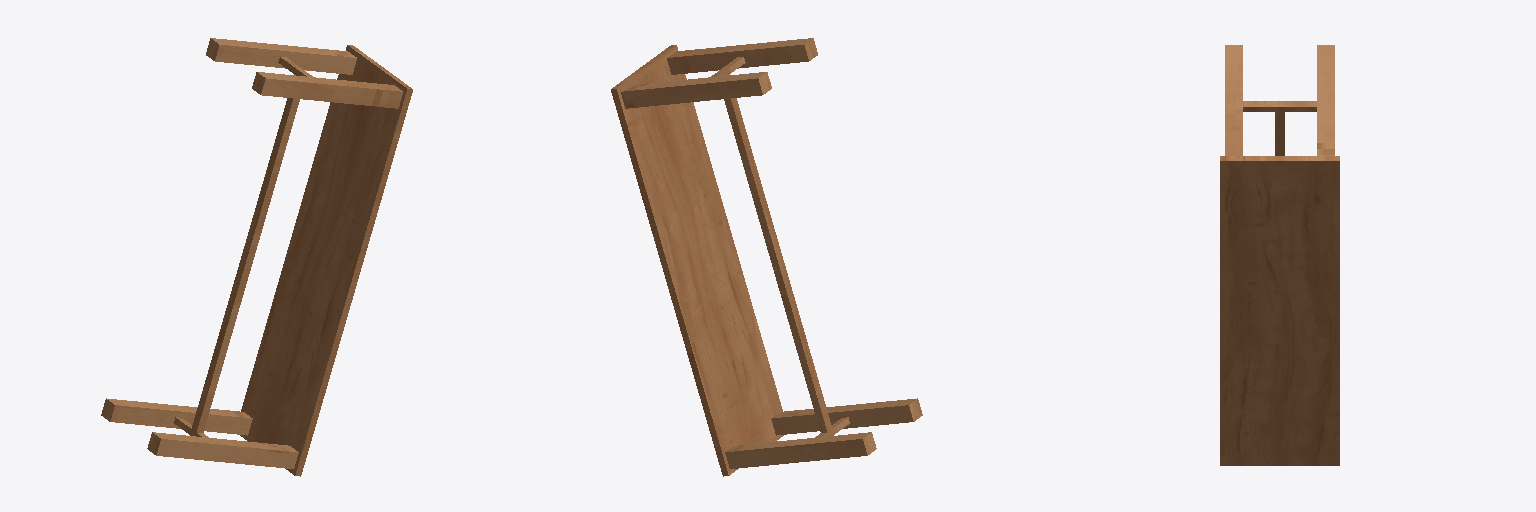
3 views of the same model, side by side, from view 1: azimuth 30°, elevation 25°; view 2: azimuth 150°, elevation 25°; view 3: azimuth 270°, elevation 25° (orthographic).
Visible parts, largest first — view 1: Cube.001_Cube.006; view 2: Cube.001_Cube.006; view 3: Cube.001_Cube.006.
Part boxes in pixels (left/top/right/bottom): Cube.001_Cube.006: left=101, top=38, right=412, bottom=476; Cube.001_Cube.006: left=611, top=38, right=922, bottom=476; Cube.001_Cube.006: left=1220, top=45, right=1339, bottom=465.
Bounding box in the file's own units: 0.9287 × 1.41 × 0.3804.
Materials: 1 (1 with a texture image).